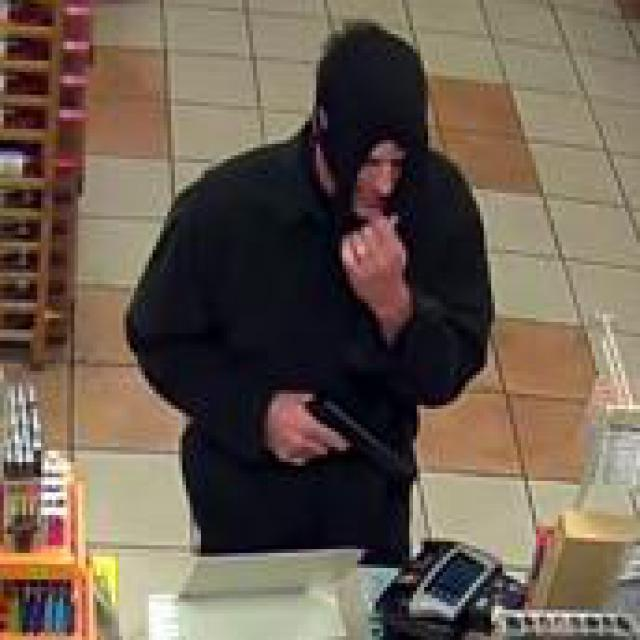Gun: (283, 386, 402, 469)
